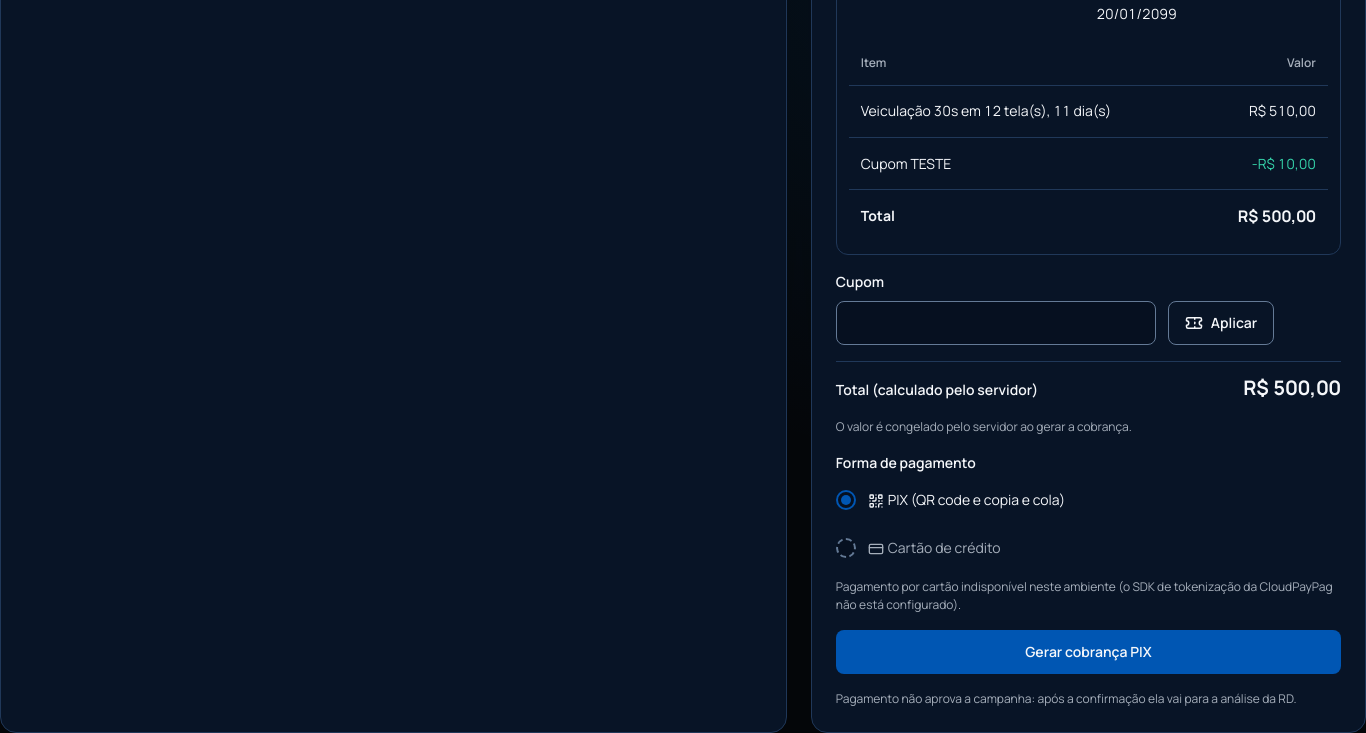
Test: carrinho / checkout › 422 dados do pagador incompletos: lista o que falta e oferece completar o cadastro
(page scrolled)
Expected: the text with test id "cart-total" reads "R$ 500,00", [1243,374,1341,400]
Click the button "Gerar cobrança PIX" at (1088, 652), box [836,630,1341,674]
(page scrolled)
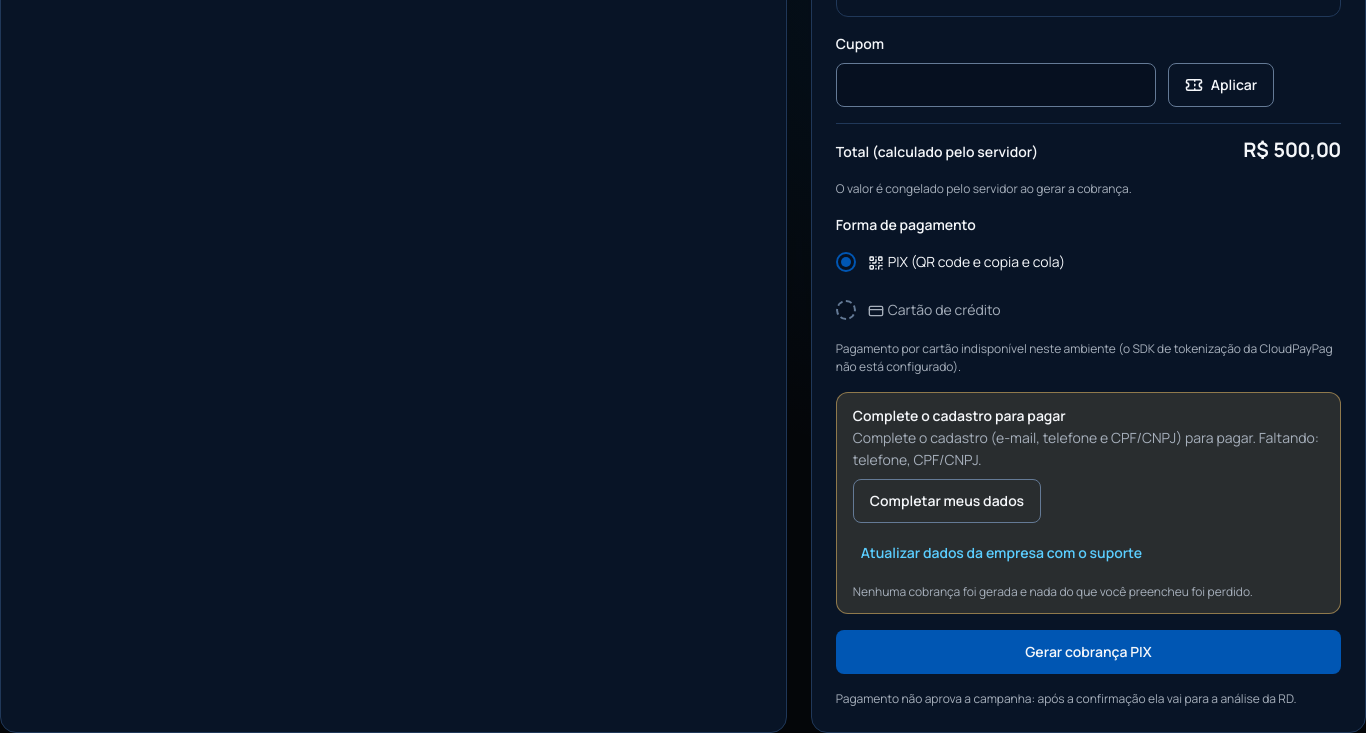
Now the text "Faltando: telefone, CPF/CNPJ" is shown, box [853,428,1319,468]
